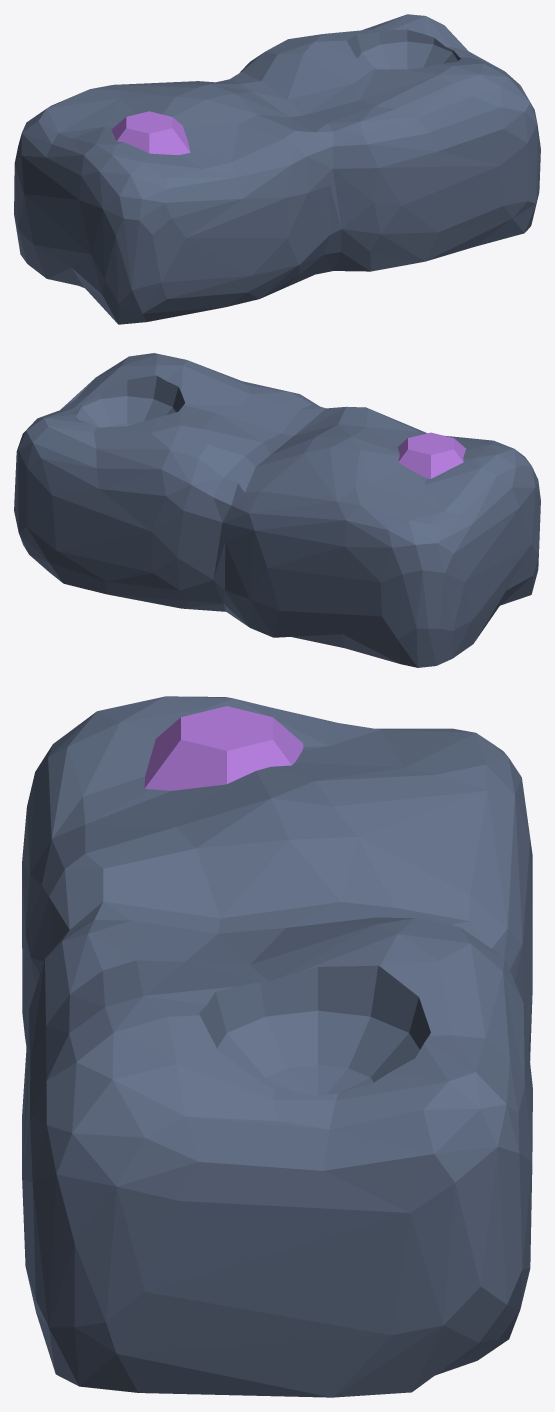
Rendered from AFJ_Asteroid_1x2.fbx.
3 renders of one model, top to bottom at view 1: azimuth 30°, elevation 25°; view 2: azimuth 150°, elevation 25°; view 3: azimuth 270°, elevation 25°, orthographic. The views are drawn at different scales.
Visible parts, largest first — view 1: Rock_1x2, Crystal_1x2; view 2: Rock_1x2, Crystal_1x2; view 3: Rock_1x2, Crystal_1x2.
Part boxes in pixels (x1,y1,x2,y2): Rock_1x2: (14, 14, 540, 324); Crystal_1x2: (111, 111, 190, 155); Rock_1x2: (14, 353, 540, 667); Crystal_1x2: (397, 432, 465, 478); Rock_1x2: (22, 696, 532, 1397); Crystal_1x2: (144, 706, 303, 790).
Bounding box in the file's own units: 201 × 70 × 101.
